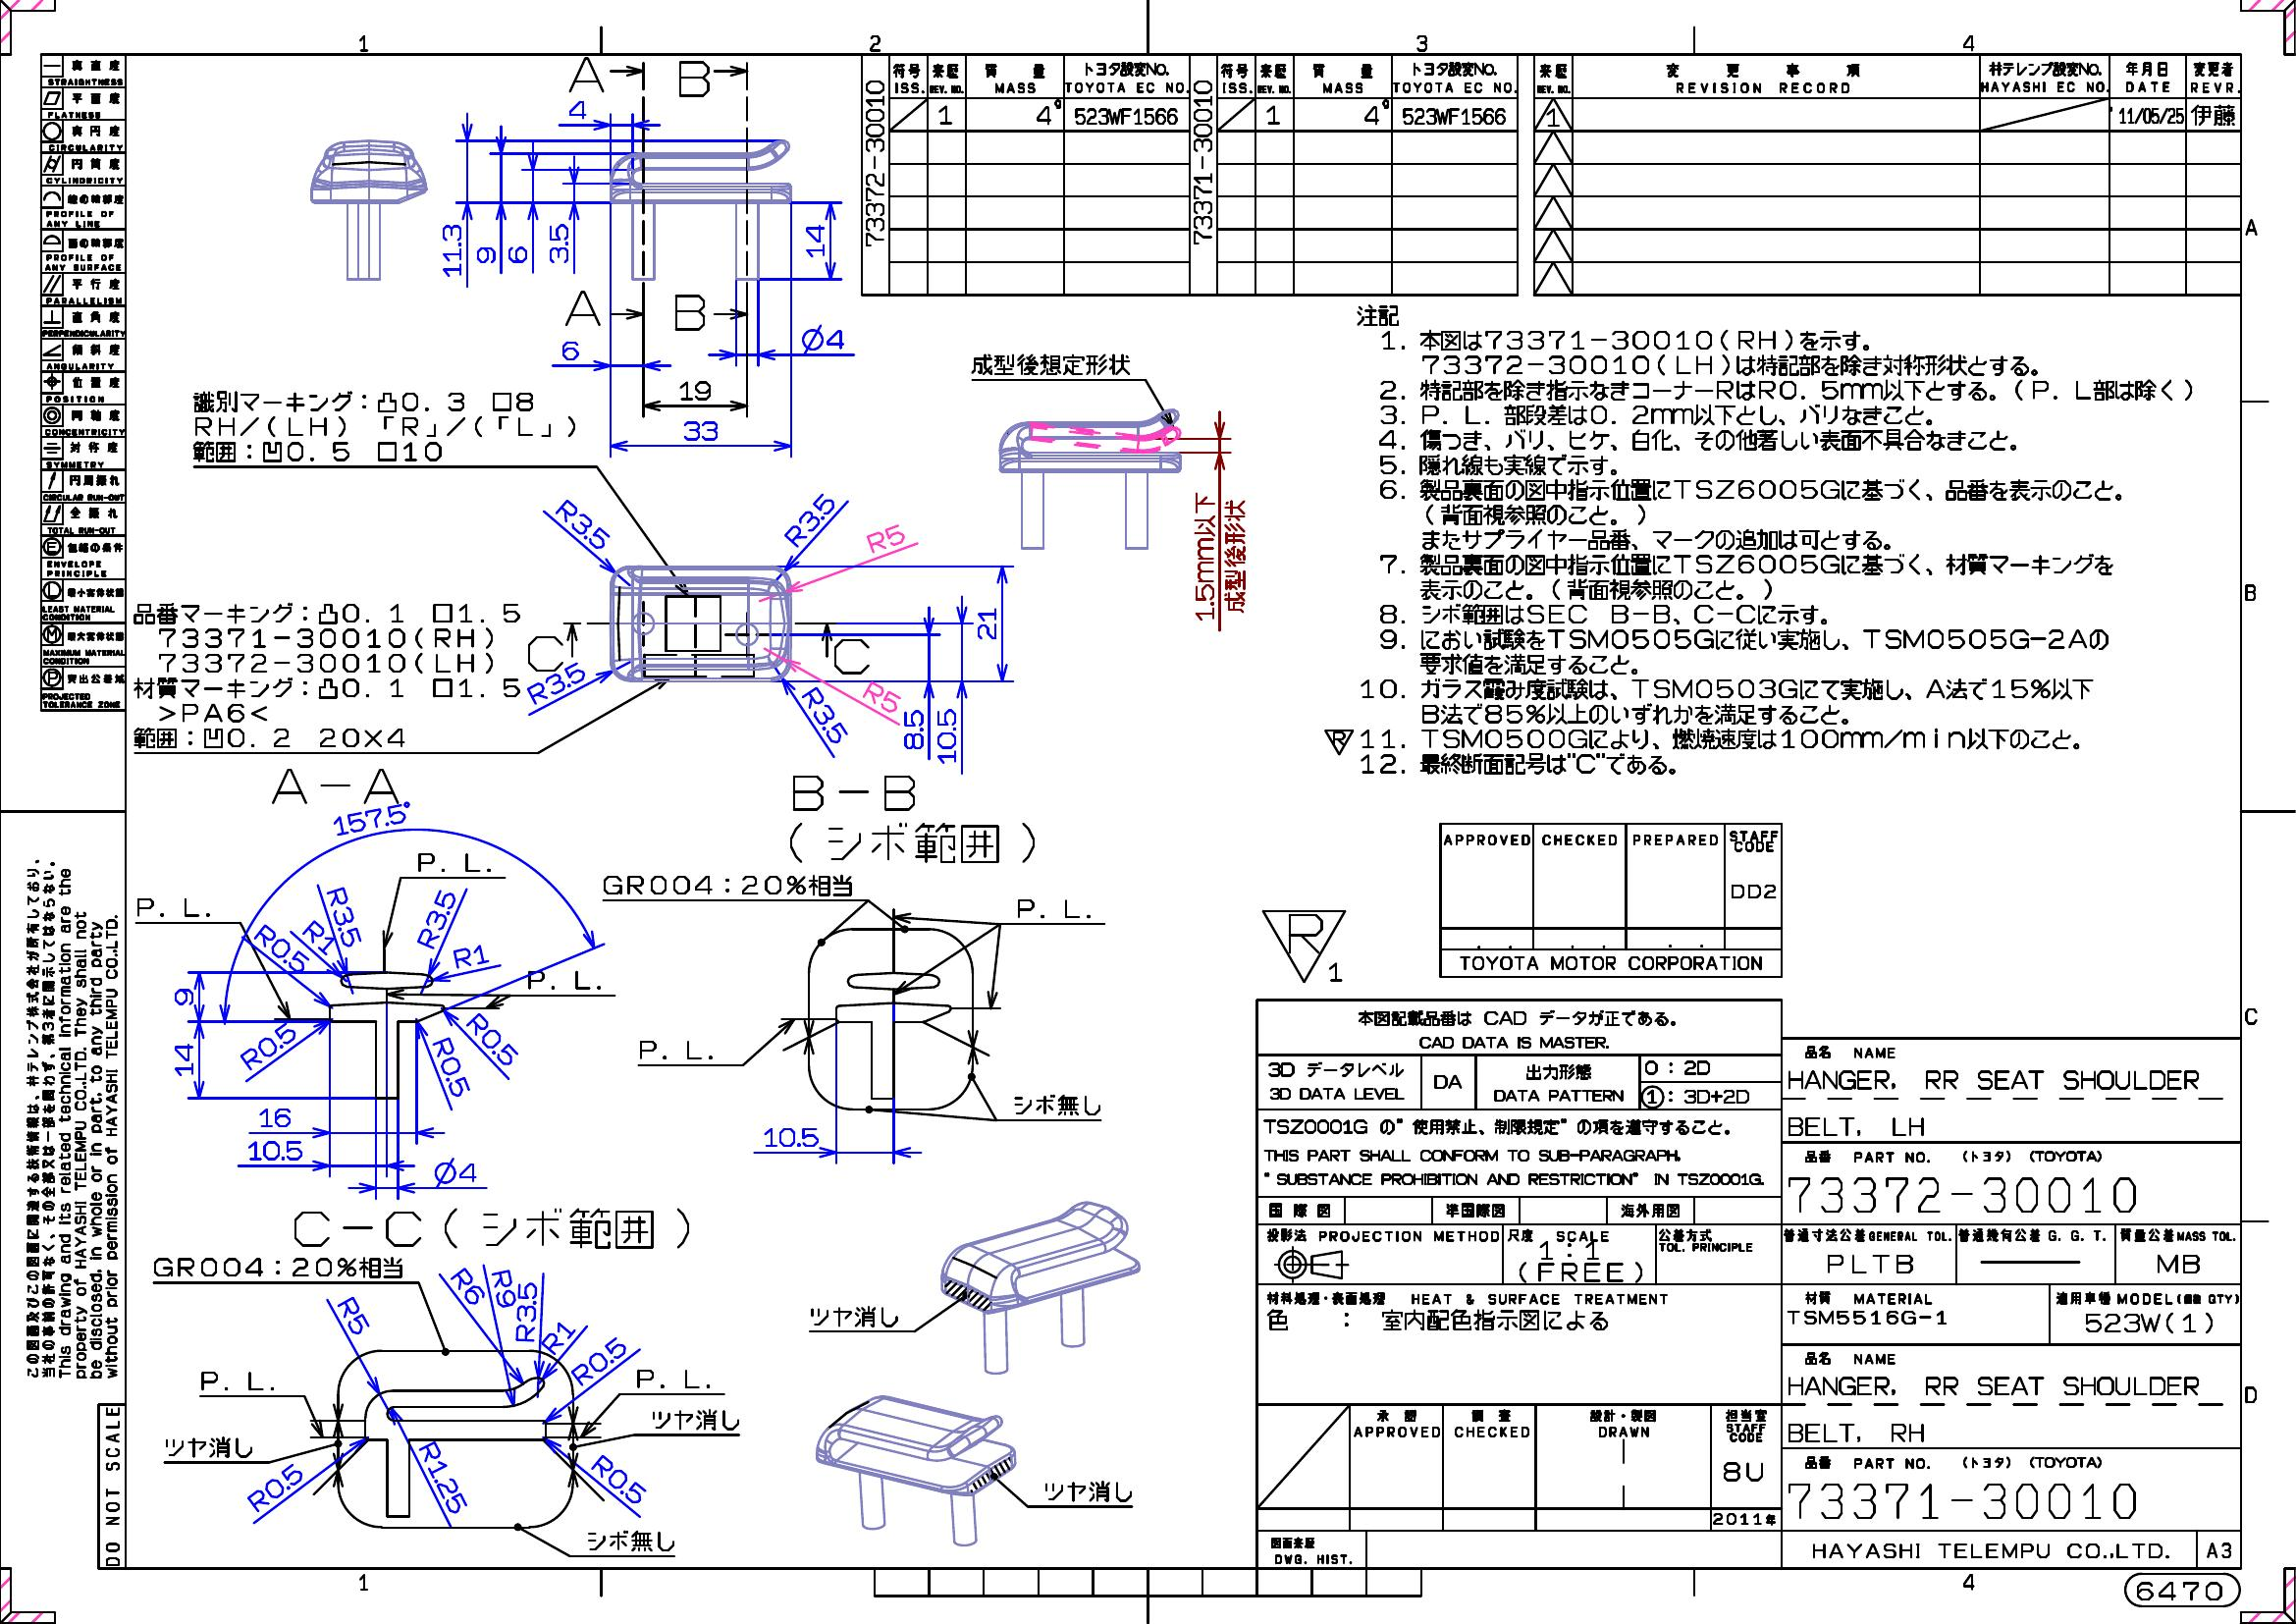anntotation_text: (1323, 301, 2192, 777), (130, 601, 523, 749), (23, 858, 121, 1378), (190, 390, 576, 462), (789, 772, 1042, 863), (292, 1207, 692, 1250), (1193, 490, 1247, 620), (1261, 909, 1347, 982), (601, 874, 854, 898), (153, 1257, 402, 1280), (271, 766, 401, 805), (2124, 1571, 2242, 1608), (971, 353, 1131, 376), (1012, 1093, 1100, 1118), (165, 1436, 253, 1459), (652, 1408, 740, 1431), (587, 1529, 675, 1552), (810, 1304, 898, 1327), (1045, 1480, 1131, 1503), (527, 968, 603, 991), (638, 1039, 713, 1062), (636, 1367, 711, 1388), (1015, 898, 1091, 919), (200, 1371, 274, 1390), (137, 898, 211, 917), (416, 852, 490, 872), (527, 634, 564, 671), (833, 638, 870, 675), (567, 56, 604, 93), (564, 290, 603, 325), (678, 60, 710, 97), (673, 294, 704, 330)
dimension_text: (332, 808, 413, 830), (404, 1468, 481, 1489), (515, 1281, 538, 1343), (237, 1033, 302, 1055), (780, 508, 840, 531), (801, 323, 845, 353), (588, 1469, 650, 1490), (552, 515, 613, 536), (794, 705, 856, 726), (251, 939, 313, 960), (313, 907, 374, 928), (462, 1028, 523, 1049), (434, 1156, 476, 1186), (246, 1476, 306, 1497), (569, 1350, 629, 1371), (422, 1056, 481, 1077), (525, 673, 587, 692), (406, 909, 467, 928), (441, 223, 462, 278), (936, 707, 956, 765), (248, 1141, 302, 1160), (764, 1127, 817, 1146), (548, 223, 569, 264), (903, 708, 924, 749), (457, 1267, 478, 1306), (863, 687, 901, 708), (336, 1306, 372, 1327), (494, 1269, 513, 1308), (866, 529, 905, 548), (682, 420, 717, 441), (302, 926, 337, 947), (453, 946, 488, 967), (805, 223, 826, 257), (680, 380, 711, 401), (174, 1042, 193, 1076), (541, 1327, 574, 1346), (977, 606, 996, 640), (258, 1107, 290, 1127), (569, 100, 587, 120), (476, 246, 495, 264), (508, 246, 527, 264), (562, 341, 580, 360), (174, 988, 193, 1005)
object: (336, 1348, 574, 1529), (940, 1199, 1140, 1376), (806, 926, 973, 1111), (815, 1394, 1015, 1547), (998, 408, 1182, 550), (608, 139, 791, 281), (608, 564, 792, 682), (307, 139, 429, 281), (329, 972, 444, 1098)
title_block: (1256, 1000, 2240, 1568), (863, 54, 2242, 294), (40, 54, 126, 710), (1439, 824, 1781, 975)
